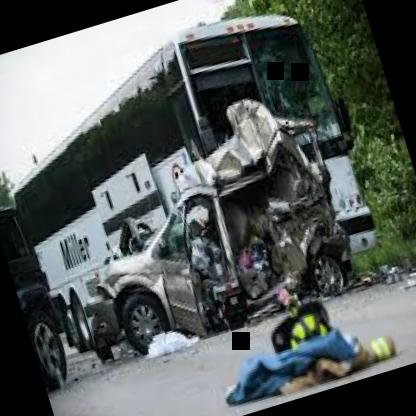accident: (62, 73, 381, 368)
